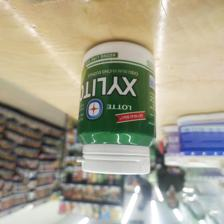Xylitol_green: (76, 39, 155, 176)
